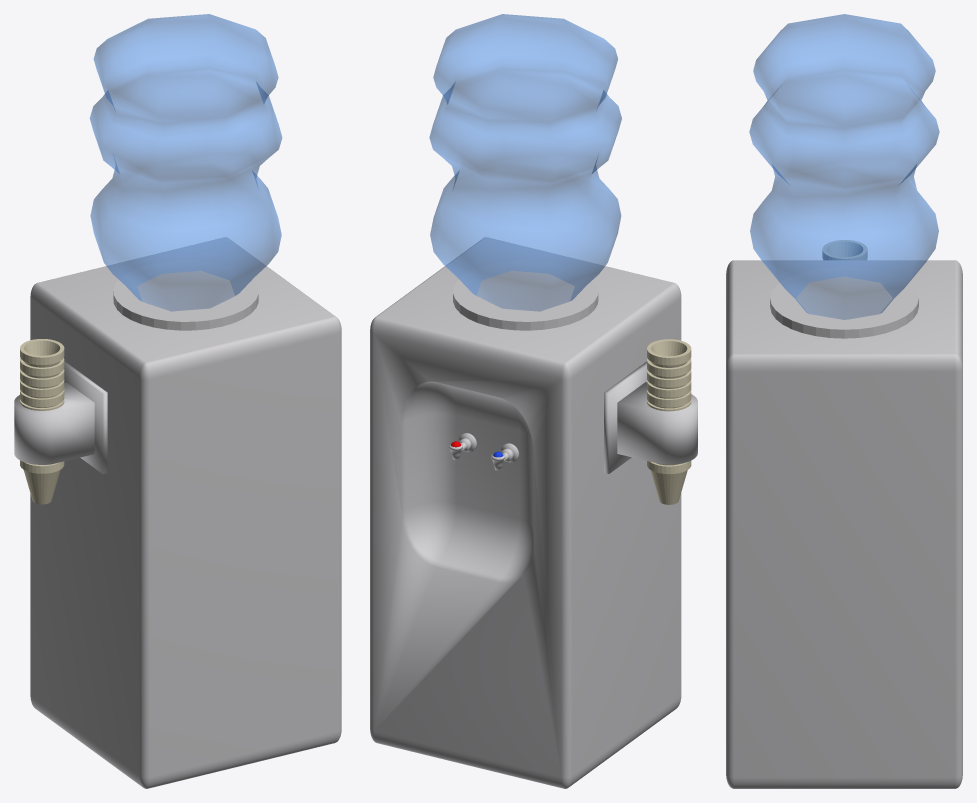
Rendered from WaterDispenser.fbx.
3 renders of one model, left to right at view 1: azimuth 30°, elevation 25°; view 2: azimuth 150°, elevation 25°; view 3: azimuth 270°, elevation 25°, orthographic.
Visible parts, largest first — view 1: Cone.001, Cube, Cylinder, Cylinder.001, Cube.002, Cone.009, Cone.021; view 2: Cone.001, Cube, Cylinder, Cylinder.001, Cube.002, Cone.009, Cone.021; view 3: Cone.001, Cube, Cylinder, Cone.021.
Boxes of the visible parts, x1,y1,x2,y2 form: Cone.001: (30,237,341,788); Cube: (89,14,282,311); Cylinder: (113,260,258,330); Cylinder.001: (14,382,94,464); Cube.002: (64,361,107,473); Cone.009: (20,460,64,504); Cone.021: (20,339,64,367); Cone.001: (370,237,681,788); Cube: (429,14,621,311); Cylinder: (453,260,598,330); Cylinder.001: (617,382,697,464); Cube.002: (604,361,647,473); Cone.009: (647,461,691,504); Cone.021: (647,339,691,367); Cone.001: (726,260,962,788); Cube: (749,14,939,319); Cylinder: (770,267,918,338); Cone.021: (822,240,867,259).
Bounding box in the file's own units: 267 × 656 × 200.
